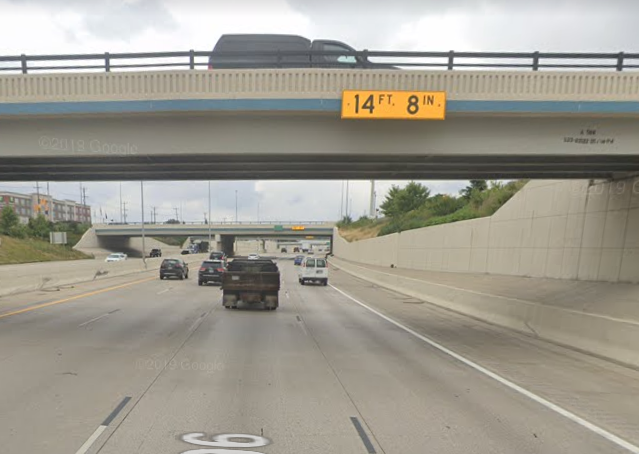1: (349, 91, 361, 115)
4: (360, 92, 377, 118)
8: (404, 91, 421, 118)
overheadsign: (339, 87, 446, 123)
